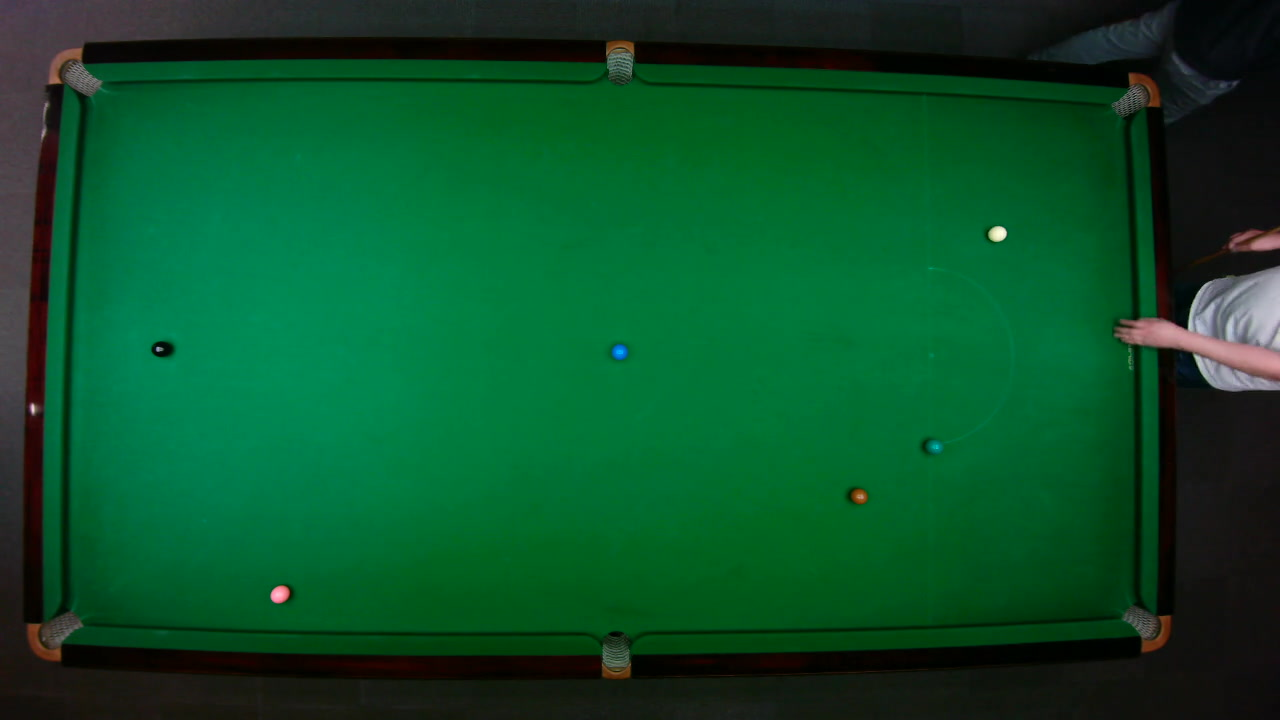bag: (25, 609, 84, 661), (45, 46, 102, 96), (1119, 603, 1171, 652), (1109, 72, 1160, 118), (600, 629, 630, 680), (605, 38, 633, 85)
black: (149, 339, 171, 357)
blue: (610, 342, 628, 360)
brown: (849, 486, 868, 504)
green: (923, 437, 943, 454)
pink: (268, 583, 290, 604)
white: (986, 224, 1008, 242)
zone: (926, 265, 1014, 445)
